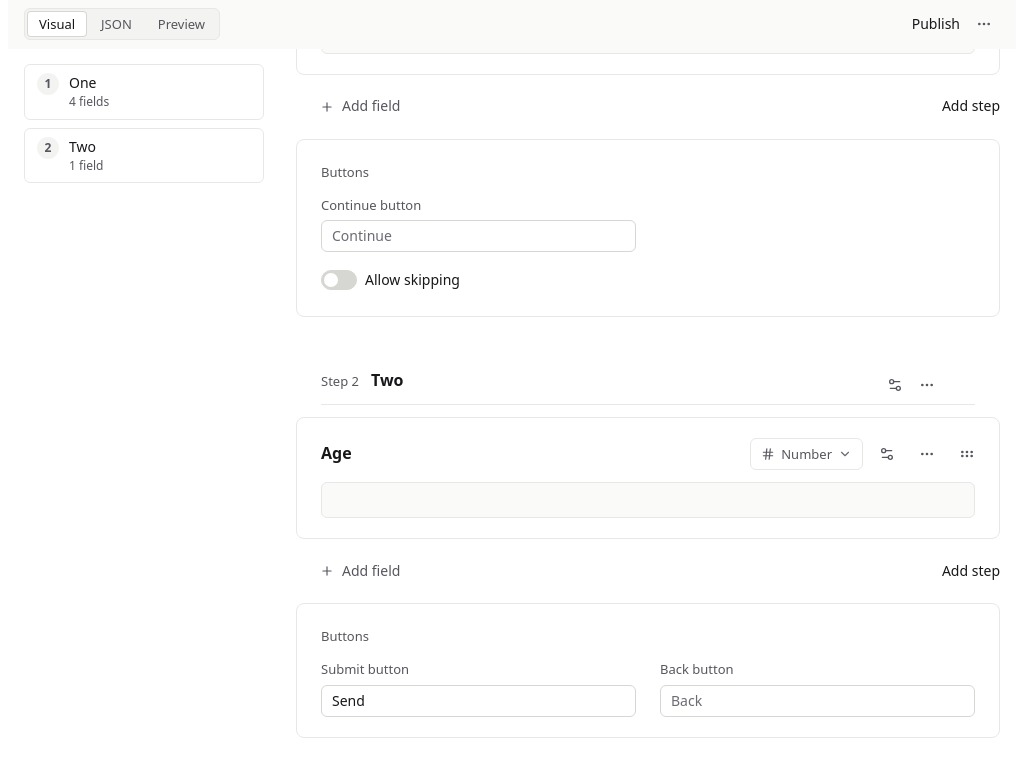
Test case: overlays inherit the editor font on a serif host page › uses the editor font in the delete step dialog at 1280
(page scrolled)
Click the button named "Step actions". click: coordinates (927, 385)
box: [911,369,943,401]
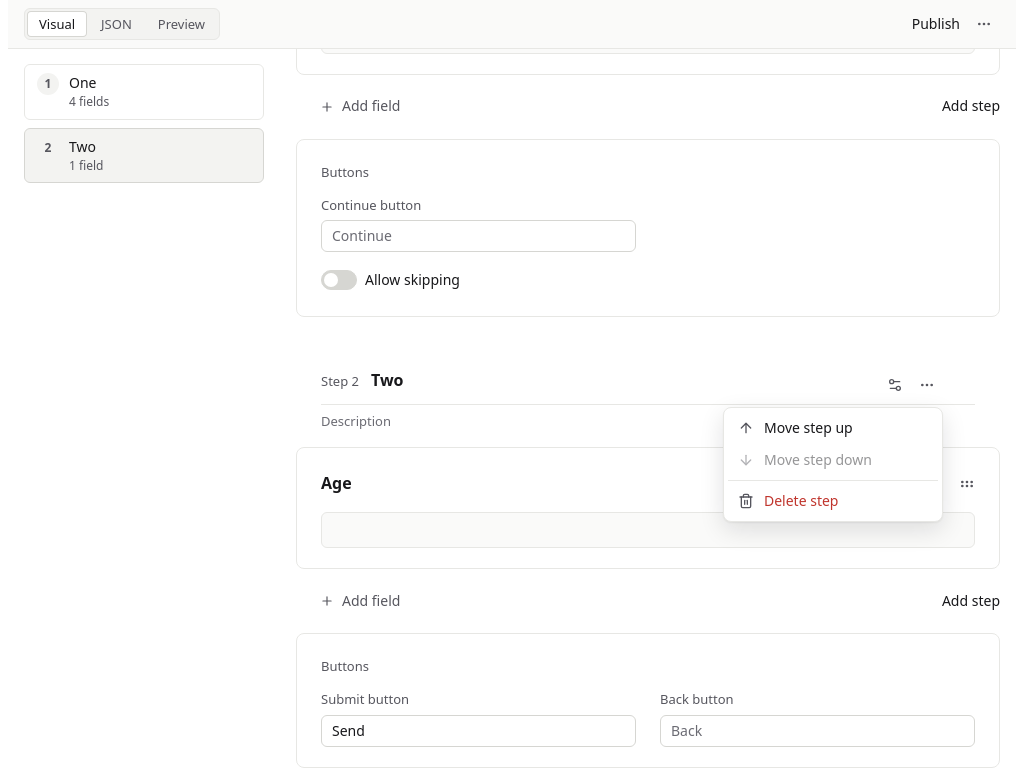
Click the menu item "Delete step". click: coordinates (788, 500)
box: [738,491,838,510]
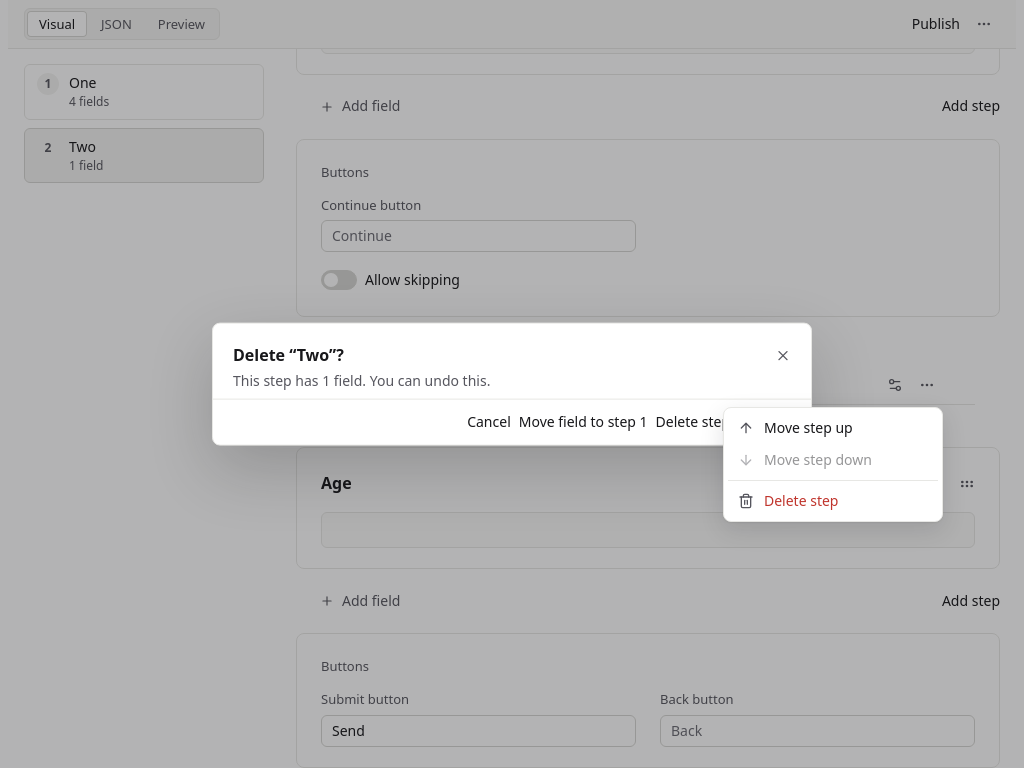
Now the dialog "Delete “Two”?" is shown, box [212,323,812,445]
